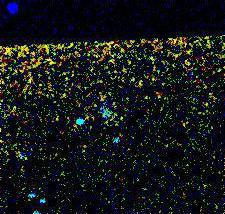star: (106, 106, 136, 136)
